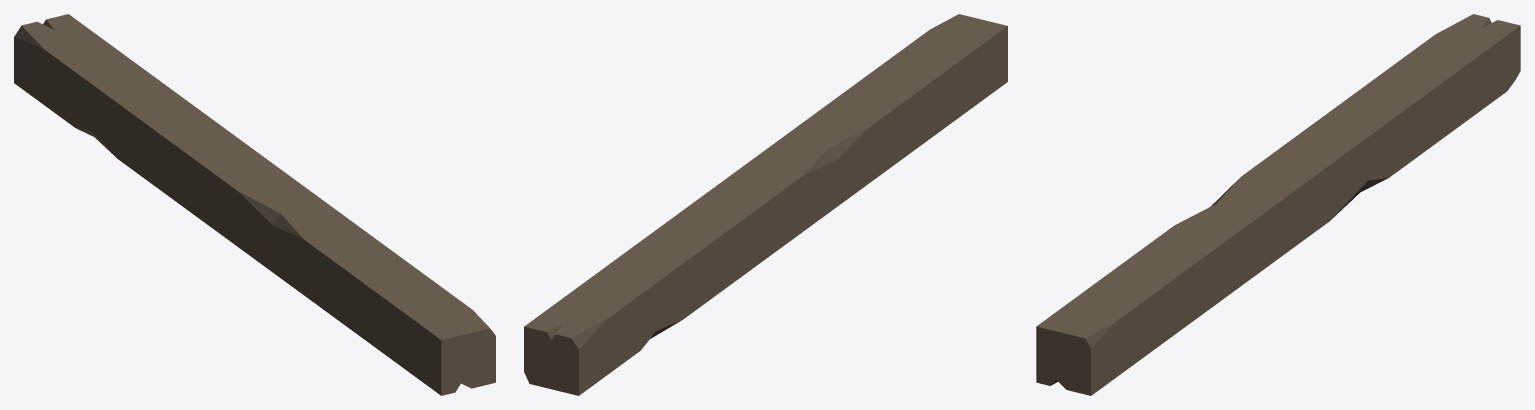
The model's file is kingdom_SM_Prop_Beam_01.gltf.
3 renders of one model, left to right at view 1: azimuth 30°, elevation 25°; view 2: azimuth 150°, elevation 25°; view 3: azimuth 330°, elevation 25°, orthographic.
Visible parts, largest first — view 1: SM_Prop_Beam_01; view 2: SM_Prop_Beam_01; view 3: SM_Prop_Beam_01.
Boxes of the visible parts, x1,y1,x2,y2 form: SM_Prop_Beam_01: (14,14,495,395); SM_Prop_Beam_01: (524,14,1007,395); SM_Prop_Beam_01: (1036,14,1520,395).
Size of the model in its own units: 0.3684 by 0.3601 by 5.
1 material, 1 textured.
